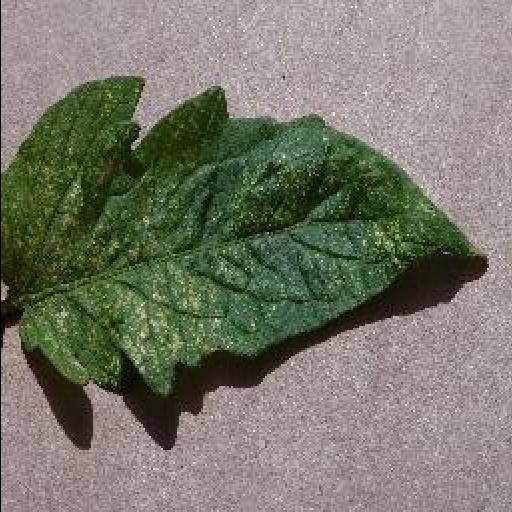disease_tomato: (0, 76, 478, 394)
